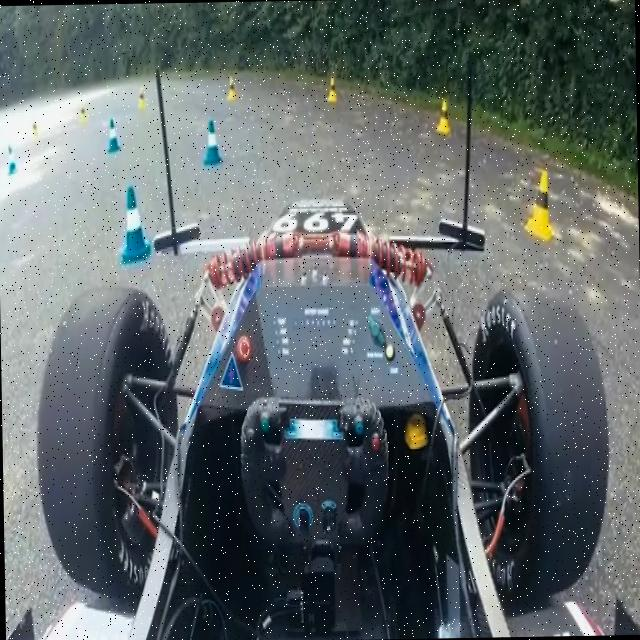blue_cone: (119, 187, 152, 266), (202, 119, 222, 166), (106, 117, 120, 153), (7, 144, 18, 176)
yellow_cone: (524, 168, 554, 241), (435, 98, 451, 135), (326, 74, 340, 102), (226, 76, 237, 102)
